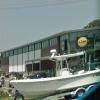Boat: (10, 54, 99, 100)
